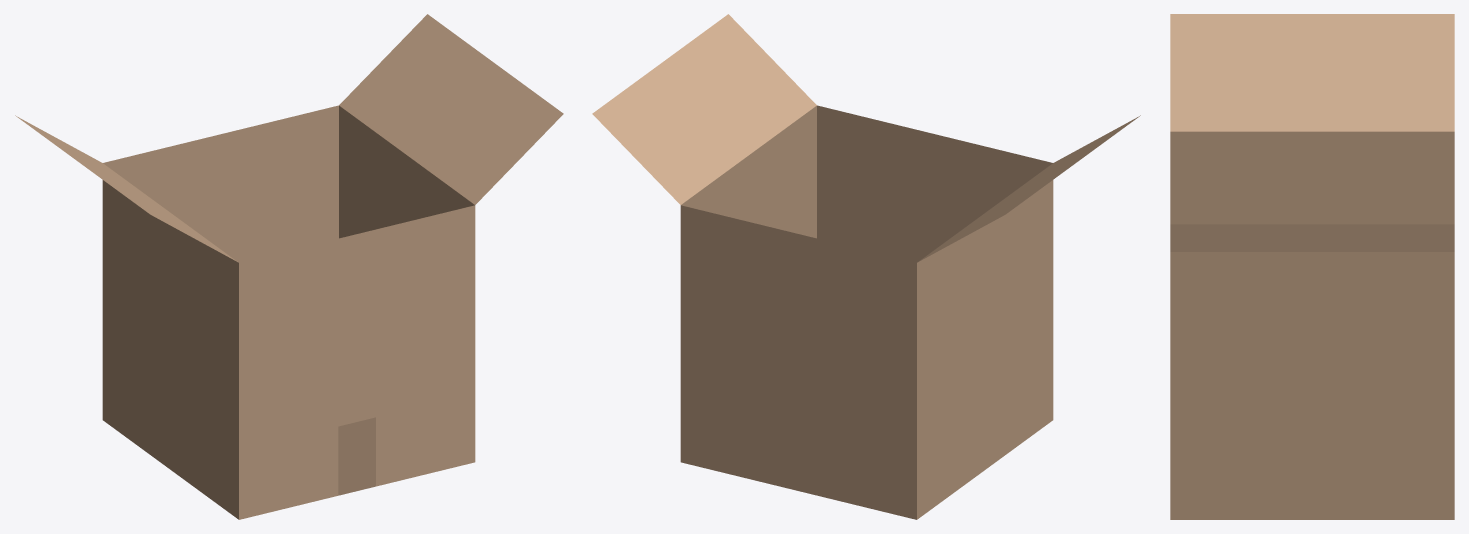
The model's file is cardboardBoxOpen.glb.
3 views of the same model, side by side, from view 1: azimuth 30°, elevation 25°; view 2: azimuth 150°, elevation 25°; view 3: azimuth 270°, elevation 25° (orthographic). The views are drawn at different scales.
Visible parts, largest first — view 1: cardboardBoxOpen; view 2: cardboardBoxOpen; view 3: cardboardBoxOpen.
Boxes of the visible parts, box(x1,y1,x2,y2) form: cardboardBoxOpen: box(15, 14, 563, 519); cardboardBoxOpen: box(592, 14, 1140, 519); cardboardBoxOpen: box(1170, 14, 1454, 519).
Size of the model in its own units: 0.3719 by 0.281 by 0.2125.
